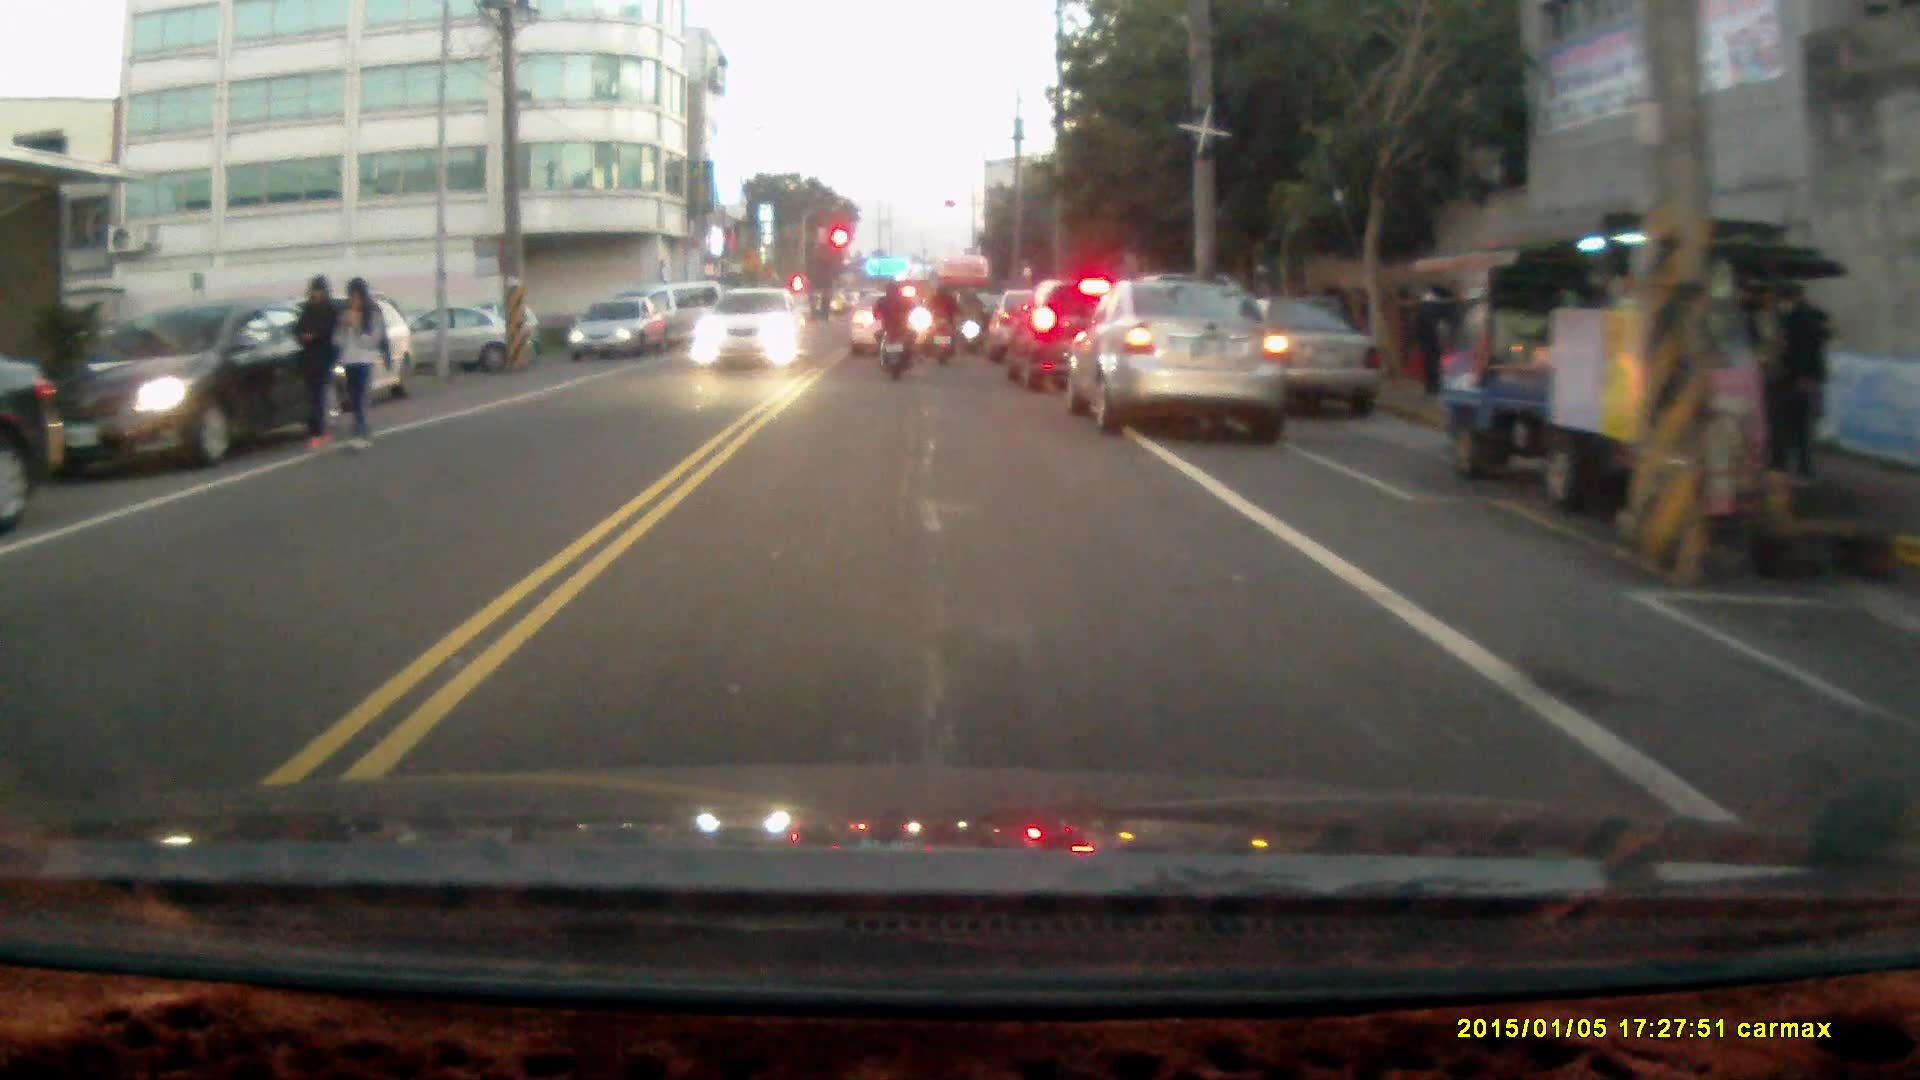pedestrian: (1775, 278, 1836, 480), (331, 278, 381, 456), (290, 268, 338, 449), (1413, 281, 1451, 405)
rider: (869, 275, 913, 381), (924, 281, 959, 364)
vehicle: (1438, 218, 1818, 509), (34, 297, 340, 479), (1075, 276, 1290, 436), (227, 290, 413, 416), (1011, 279, 1175, 395), (1, 328, 70, 534), (689, 292, 804, 374), (568, 302, 661, 365), (850, 294, 937, 360)
